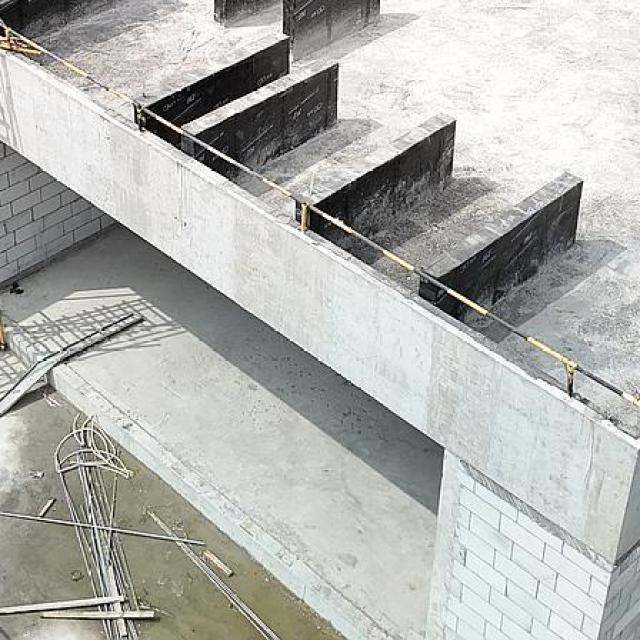edge_guardrail: (0, 21, 640, 412)
